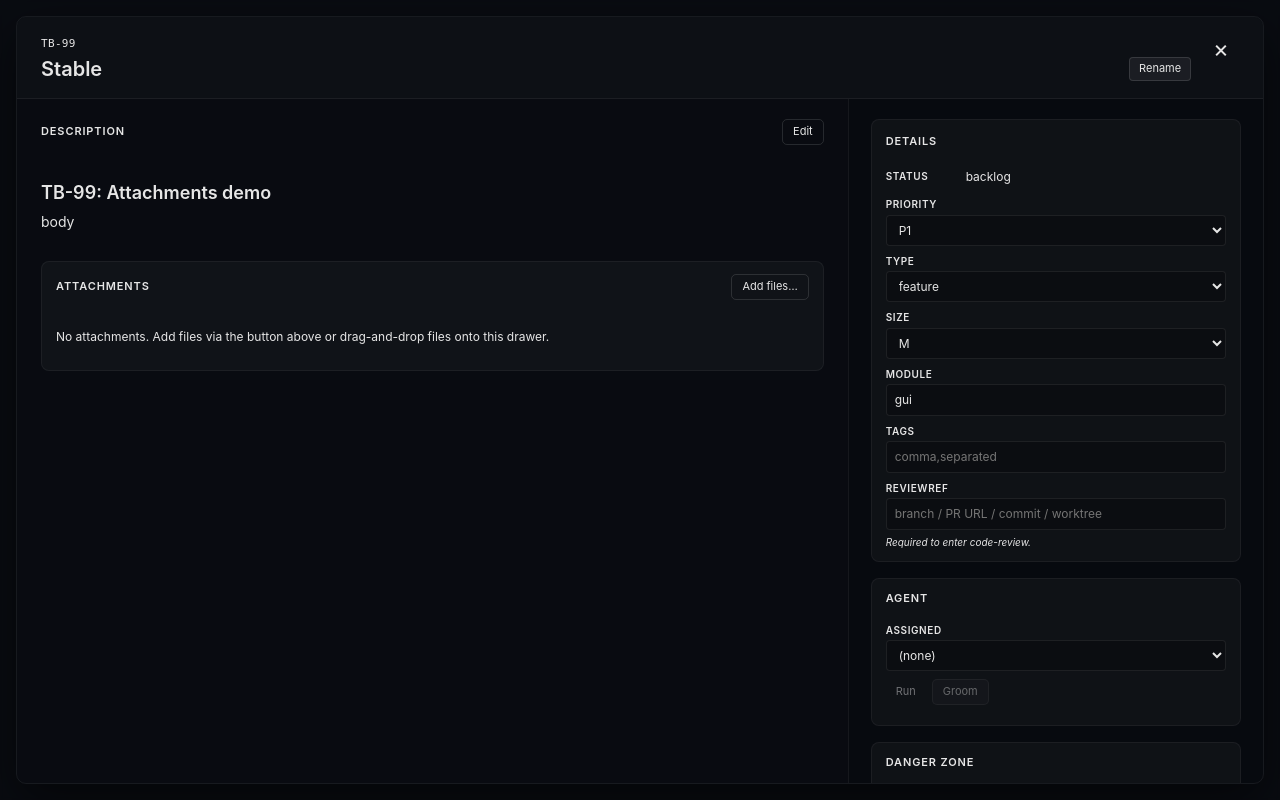
Test: TaskDrawer inline title rename (TB-207) › Escape inside the input cancels the draft without closing the drawer
Click the button with class "rename-btn".
click(1160, 69)  # box [1129, 57, 1191, 81]
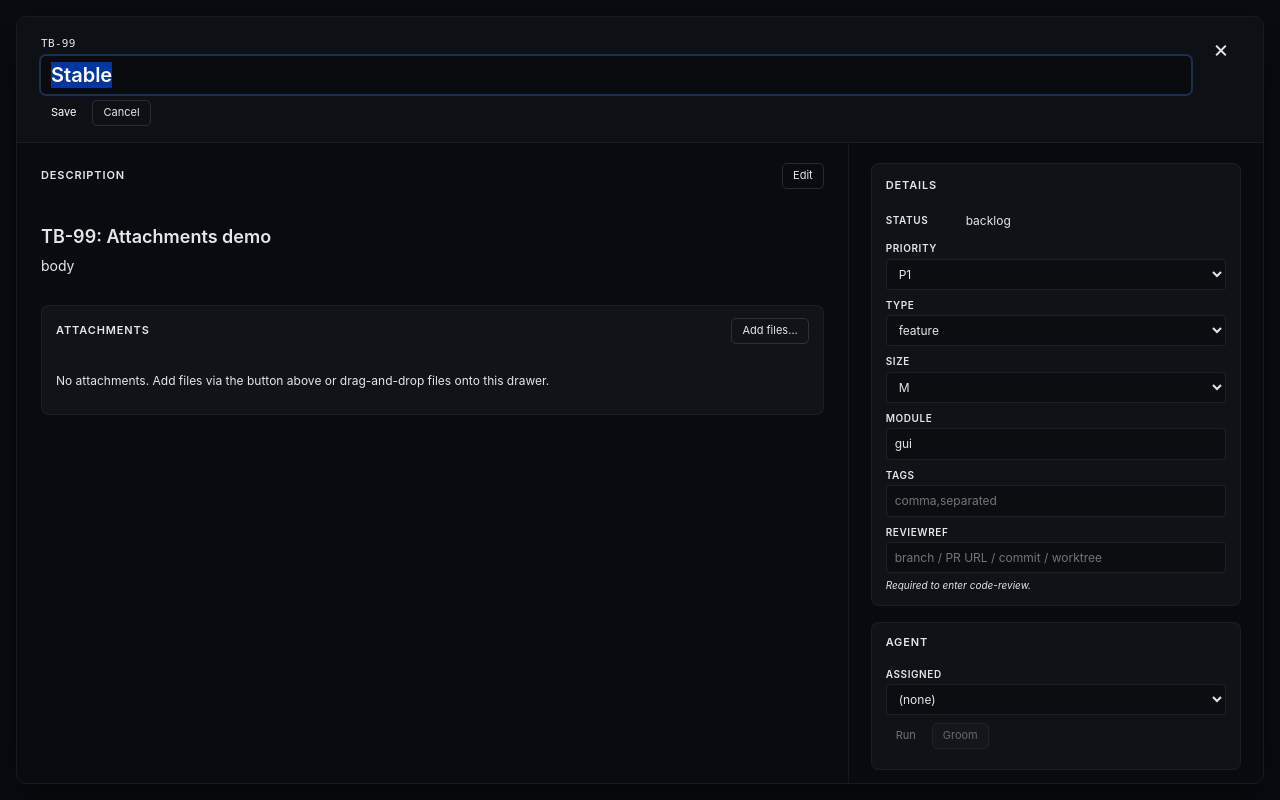
Replace the text in the field with class "title-input" with "Drafted" at (616, 75), box [41, 56, 1191, 94]
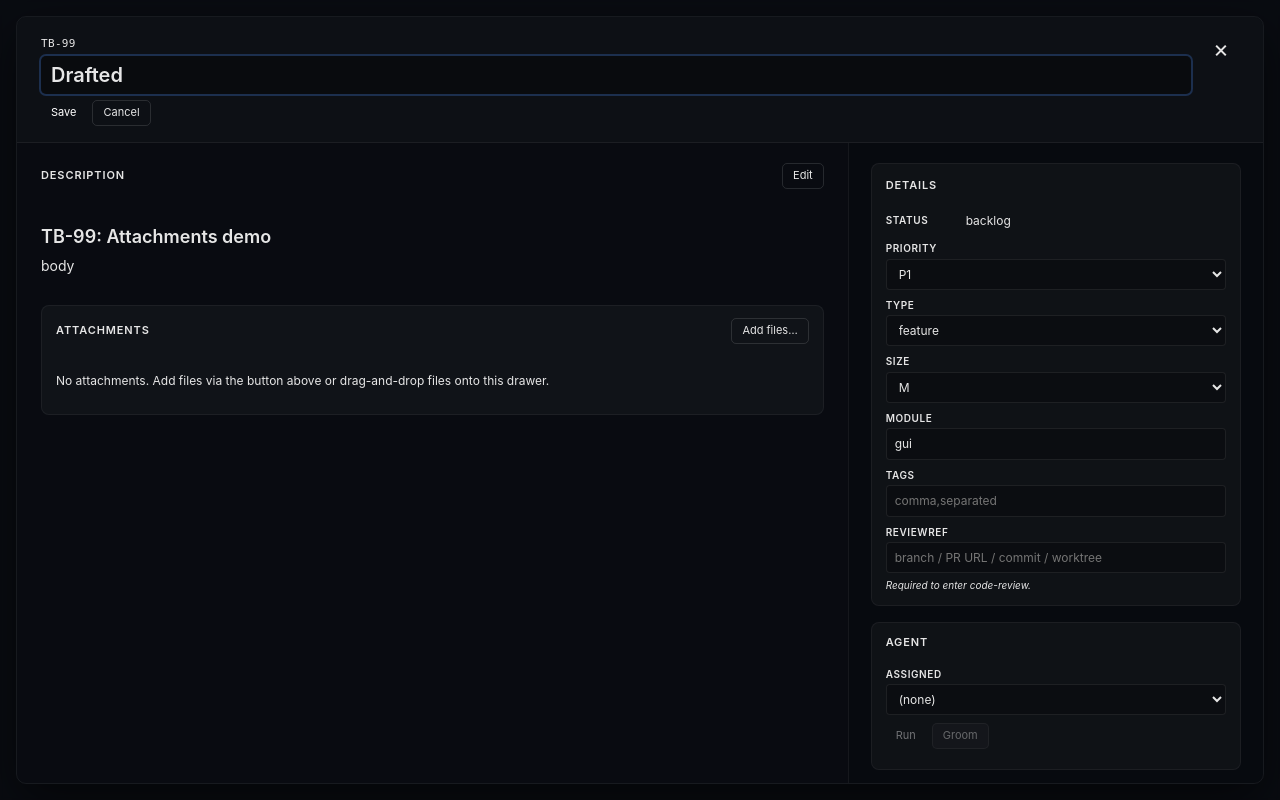
Press Escape in the field with class "title-input", box [41, 56, 1191, 94]
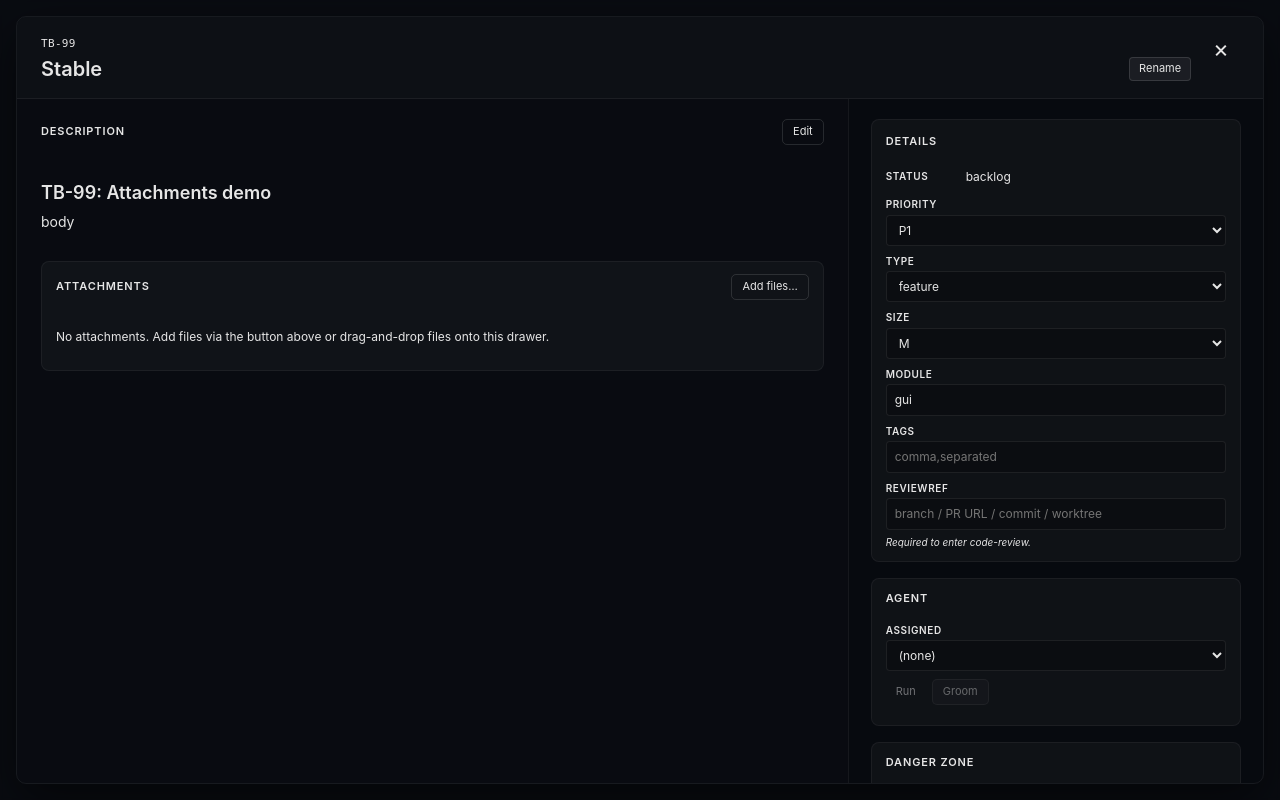
Result: the field with class "title-input" is gone
